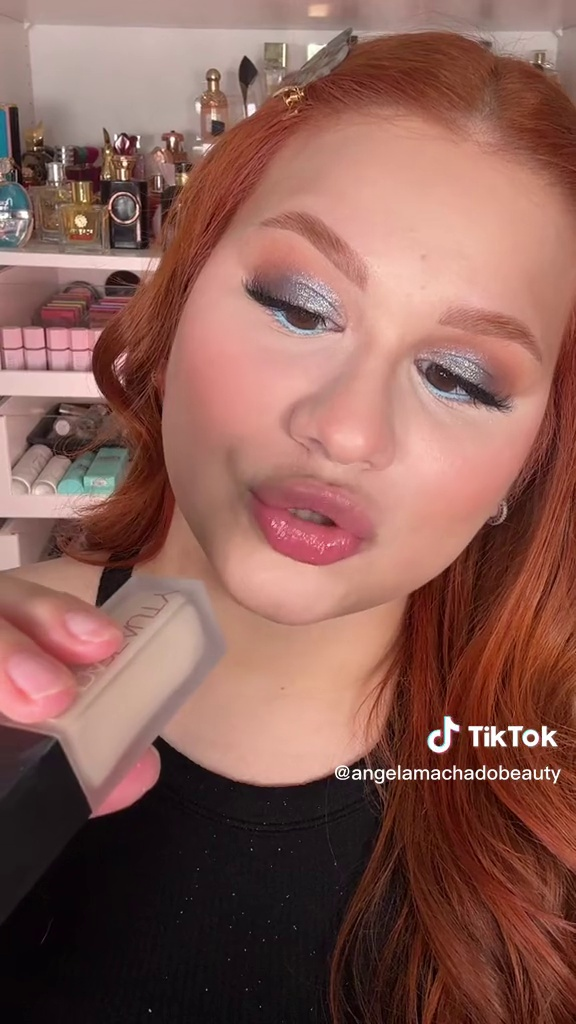train' :'yolo_data/train/images',: (1, 565, 230, 920)
